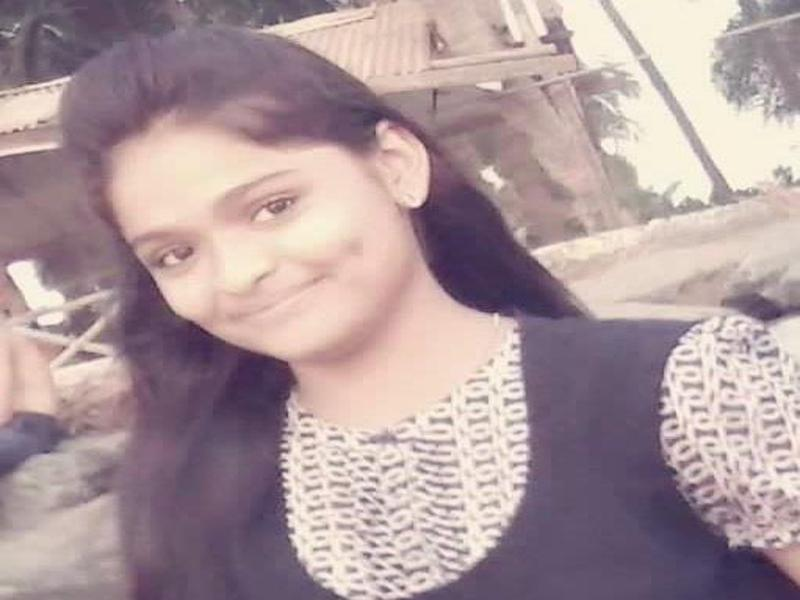without_mask: (100, 140, 406, 371)
